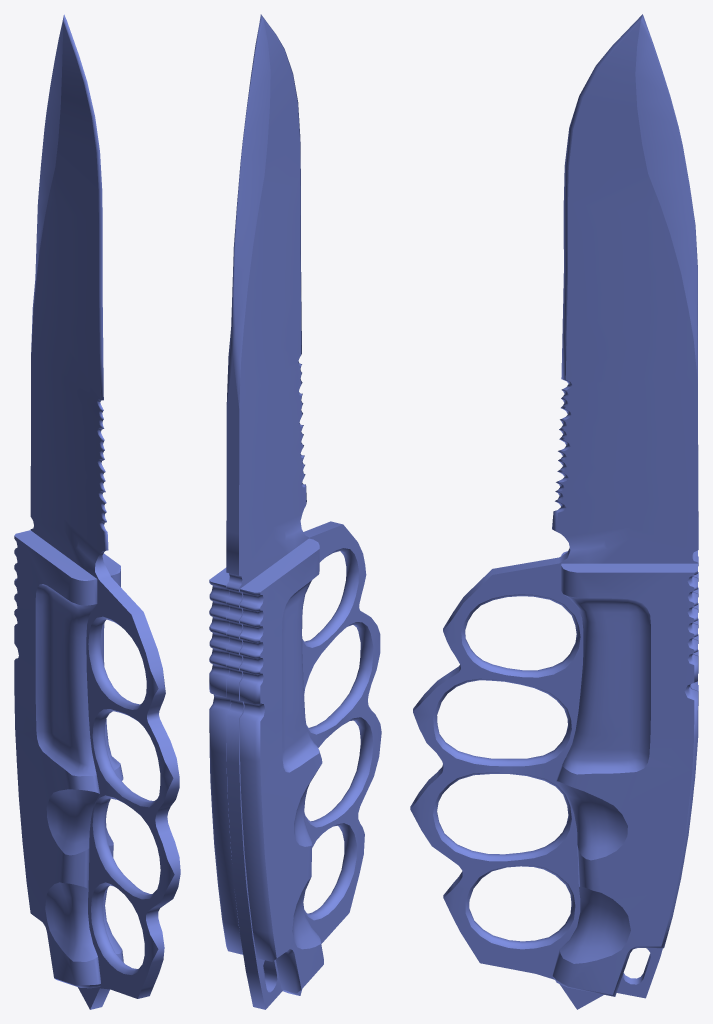
Rendered from Knife_06_Mesh.FBX.
3 views of the same model, side by side, from view 1: azimuth 30°, elevation 25°; view 2: azimuth 150°, elevation 25°; view 3: azimuth 270°, elevation 25° (orthographic). The views are drawn at different scales.
Parts seen in each view (by area): view 1: Knife_06_Mesh; view 2: Knife_06_Mesh; view 3: Knife_06_Mesh.
Part boxes in pixels (x1,y1,x2,y2): Knife_06_Mesh: (14, 14, 180, 1009); Knife_06_Mesh: (209, 14, 381, 1009); Knife_06_Mesh: (410, 14, 698, 1009).
Size of the model in its own units: 1.94 by 9.59 by 36.44.
